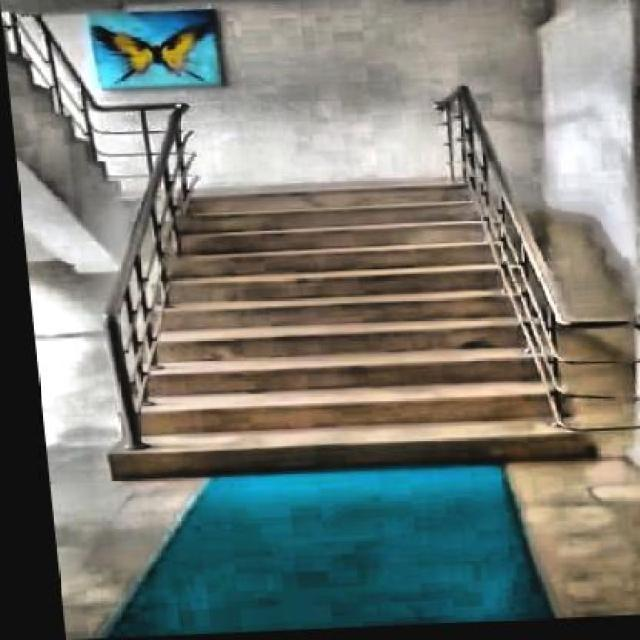stair: (130, 190, 564, 476)
